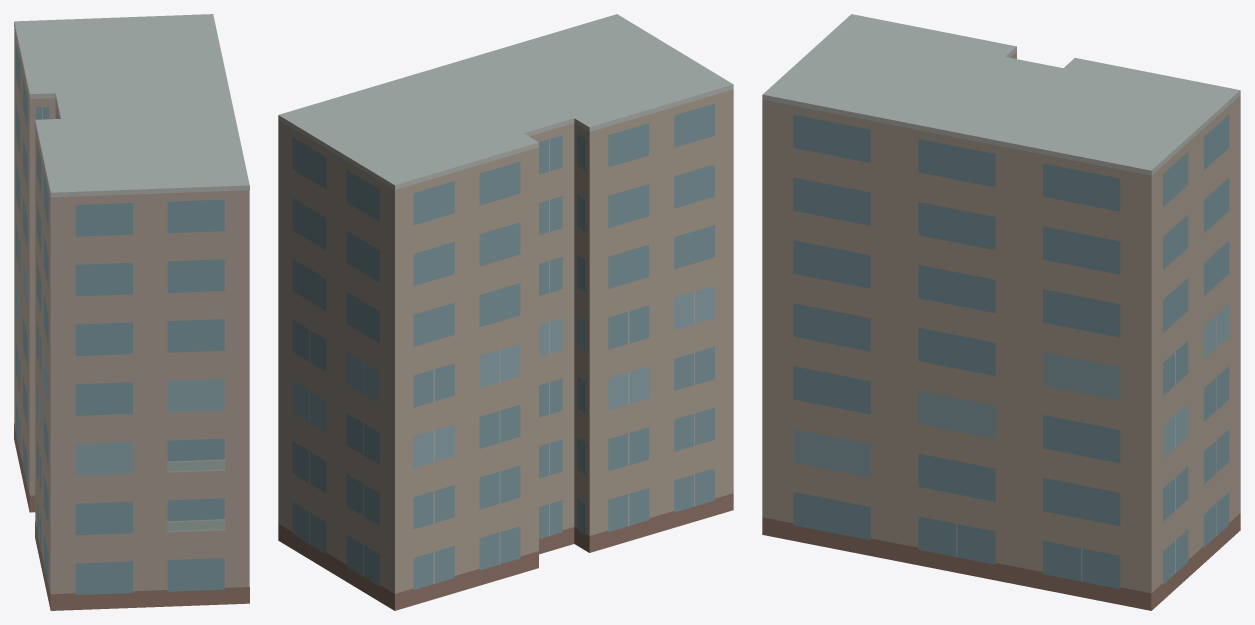
The model's file is survey-upis-32678945.glb.
3 views of the same model, side by side, from view 1: azimuth 30°, elevation 25°; view 2: azimuth 150°, elevation 25°; view 3: azimuth 270°, elevation 25° (orthographic). The views are drawn at different scales.
Visible parts, largest first — view 1: survey-upis-32678945.tmp; view 2: survey-upis-32678945.tmp; view 3: survey-upis-32678945.tmp.
Boxes of the visible parts, box(x1,y1,x2,y2) form: survey-upis-32678945.tmp: box(14, 14, 249, 610); survey-upis-32678945.tmp: box(278, 14, 733, 610); survey-upis-32678945.tmp: box(762, 14, 1240, 610).
Bounding box in the file's own units: 16.3 × 21.35 × 21.02.
